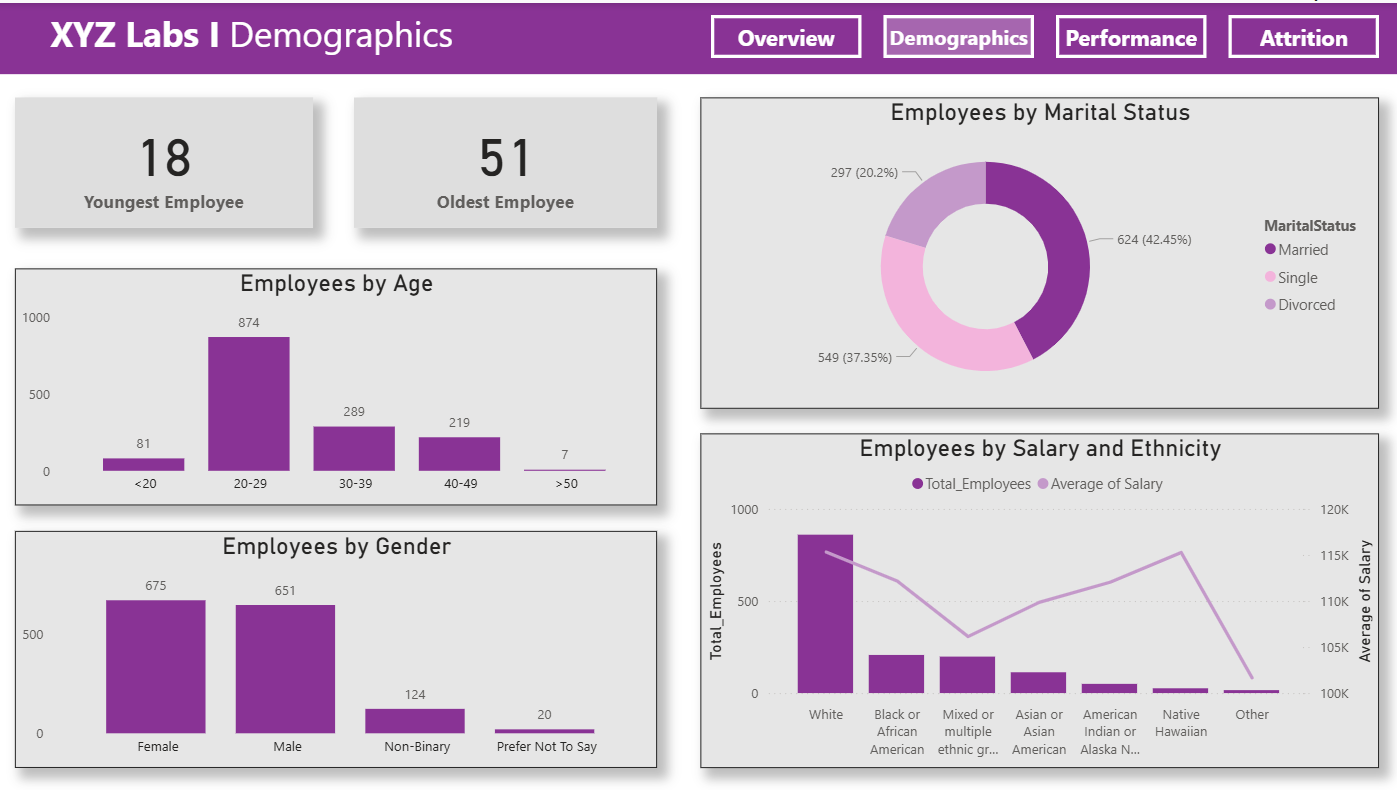

This screenshot's page, from the dashboard's own definition file:
{"tool":"powerbi","page":{"name":"Demographics","canvas":[1280,720],"ordinal":1},"visuals":[{"type":"shape","box":[0,0,1279.5,65.1],"z":0},{"type":"textbox","box":[13.6,0,433.1,65.1],"z":1000},{"type":"actionButton","box":[808.6,10.6,137.8,39.4],"z":2000},{"type":"actionButton","box":[651.1,10.6,137.8,39.4],"z":3000},{"type":"actionButton","box":[1123.5,10.6,137.8,39.4],"z":4000},{"type":"actionButton","box":[966.1,10.6,137.8,39.4],"z":5000},{"type":"card","fields":{"Values":["Min(Employee.Age)"]},"box":[13.6,86.3,272.6,119.6],"z":6000},{"type":"card","fields":{"Values":["Max(Employee.Age)"]},"box":[324,86.3,277.1,119.6],"z":7000},{"type":"columnChart","title":"Employees by Age","fields":{"Y":["All_Measures.Total_Employees"],"Category":["Age Mapping.AgeBins"]},"box":[13.6,242.3,587.5,216.5],"z":8000},{"type":"donutChart","title":"Employees by Marital Status","fields":{"Category":["Employee.MaritalStatus"],"Y":["All_Measures.Total_Employees"]},"box":[640.5,86.3,620.8,284.7],"z":9000},{"type":"columnChart","title":"Employees by Gender","fields":{"Y":["All_Measures.Total_Employees"],"Category":["Employee.Gender"]},"box":[13.6,483,587.5,216.5],"z":10000},{"type":"lineStackedColumnComboChart","title":"Employees by Salary and Ethnicity","fields":{"Category":["Employee.Ethnicity"],"Y":["All_Measures.Total_Employees"],"Y2":["Avg(Employee.Salary)"]},"box":[640.5,393.7,620.8,305.9],"z":11000}]}

Visuals, with their boxes in screenshot pixels (x1, y1, x2, y2), scaled from the page's 1280x720 canvas onto the 1397x790 screenshot:
shape: [0, 0, 1396, 71]
textbox: [15, 0, 488, 71]
actionButton: [883, 12, 1033, 55]
actionButton: [711, 12, 861, 55]
actionButton: [1226, 12, 1377, 55]
actionButton: [1054, 12, 1205, 55]
card - Min(Employee.Age): [15, 95, 312, 226]
card - Max(Employee.Age): [354, 95, 656, 226]
"Employees by Age" columnChart: [15, 266, 656, 503]
"Employees by Marital Status" donutChart: [699, 95, 1377, 407]
"Employees by Gender" columnChart: [15, 530, 656, 768]
"Employees by Salary and Ethnicity" lineStackedColumnComboChart: [699, 432, 1377, 768]
